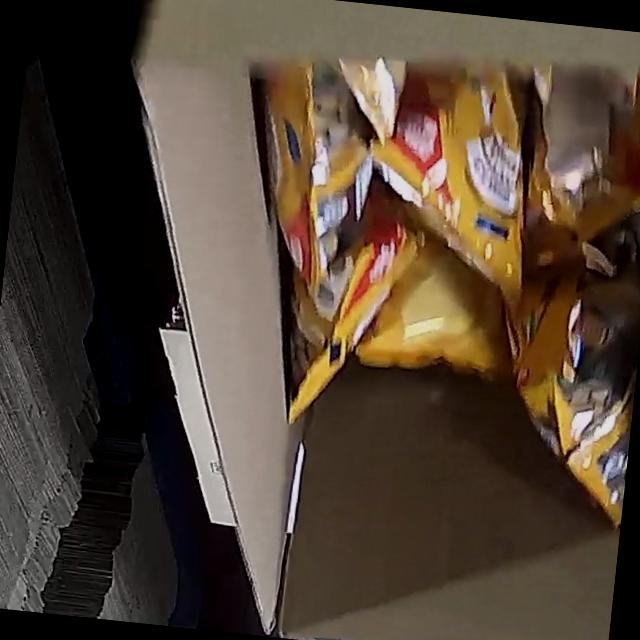cheese: (219, 30, 640, 532)
